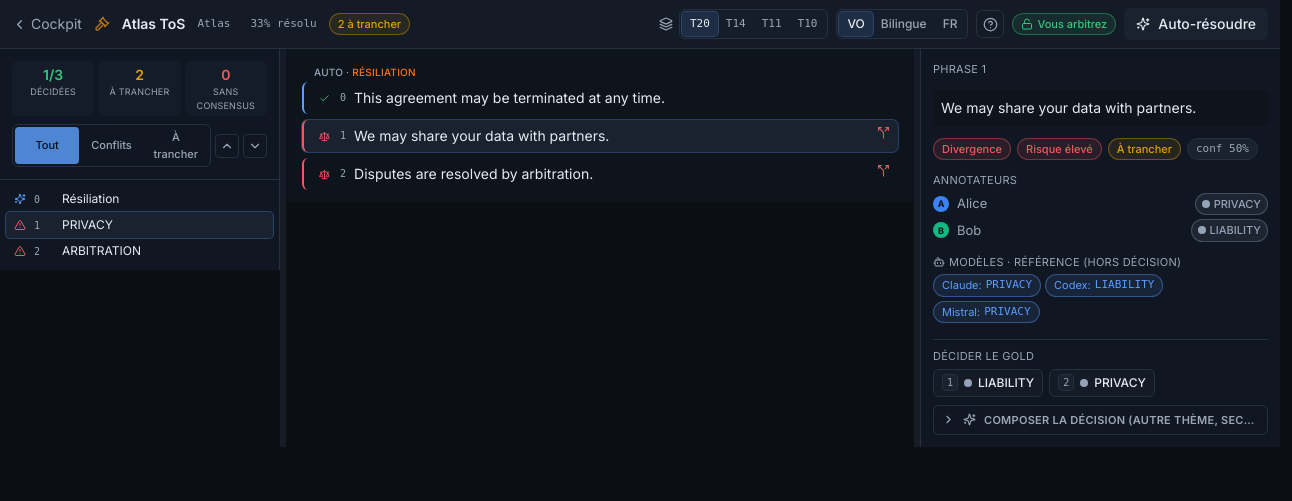
Test: GoldWorkspace › ⭐ AFFICHE le refus du serveur au lieu d'un saut silencieux du curseur
Expected: the element with test id "gold-lock-mine" is shown, [1012,13,1116,35]
Click the button with test id "gold-decide-PRIVACY" at [1102, 382], box [1049,368,1155,396]
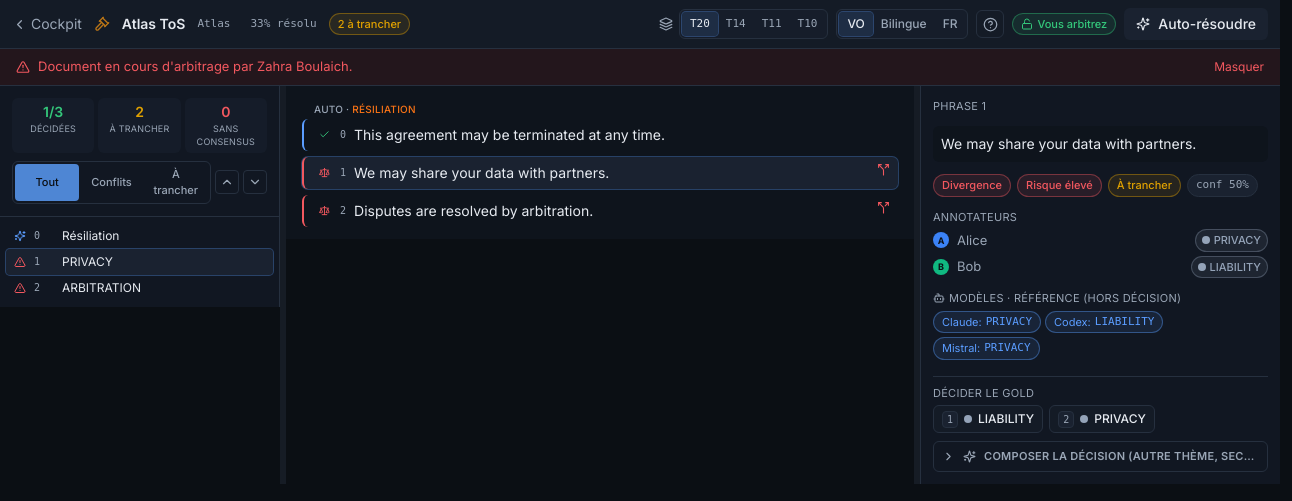
Now the message with test id "gold-error-banner" shows "Zahra Boulaich", box [38,58,352,74]
